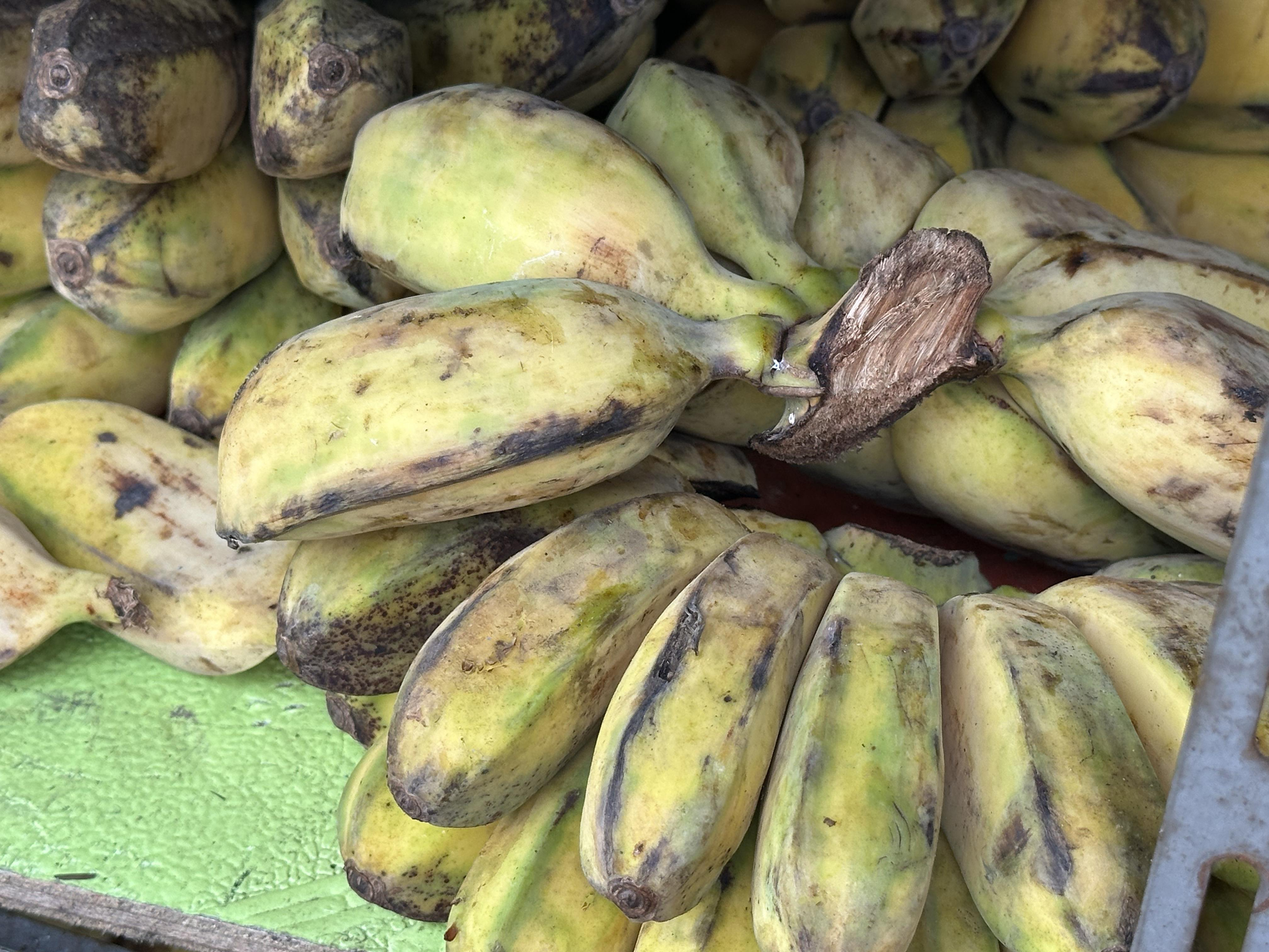underripe: (214, 63, 1269, 570), (278, 457, 1217, 952), (18, 0, 665, 438), (667, 0, 1269, 268)
